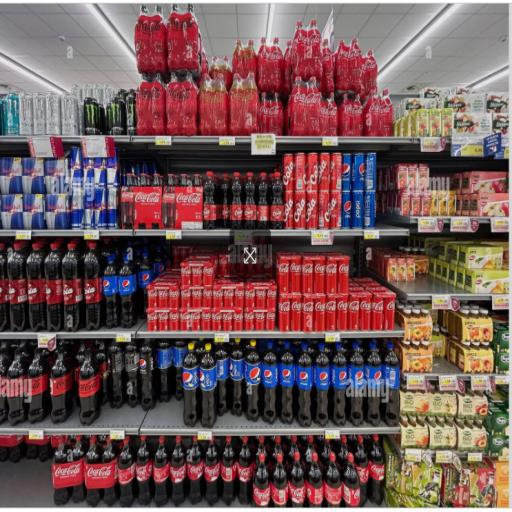coca_cola: (52, 439, 84, 504), (156, 437, 186, 505), (85, 437, 116, 499), (366, 435, 384, 504), (119, 442, 136, 506), (72, 436, 88, 503), (221, 437, 237, 504), (238, 437, 254, 503), (136, 438, 152, 503), (354, 436, 369, 504), (204, 438, 219, 505), (342, 454, 360, 507), (324, 452, 341, 506), (271, 454, 288, 507), (253, 454, 270, 506), (289, 452, 305, 507), (307, 452, 323, 507), (100, 456, 117, 505), (118, 440, 135, 483), (187, 437, 203, 480), (88, 453, 98, 494), (102, 438, 118, 462), (189, 473, 201, 503), (321, 438, 331, 467), (212, 475, 218, 483), (159, 436, 164, 444), (84, 483, 85, 486)
